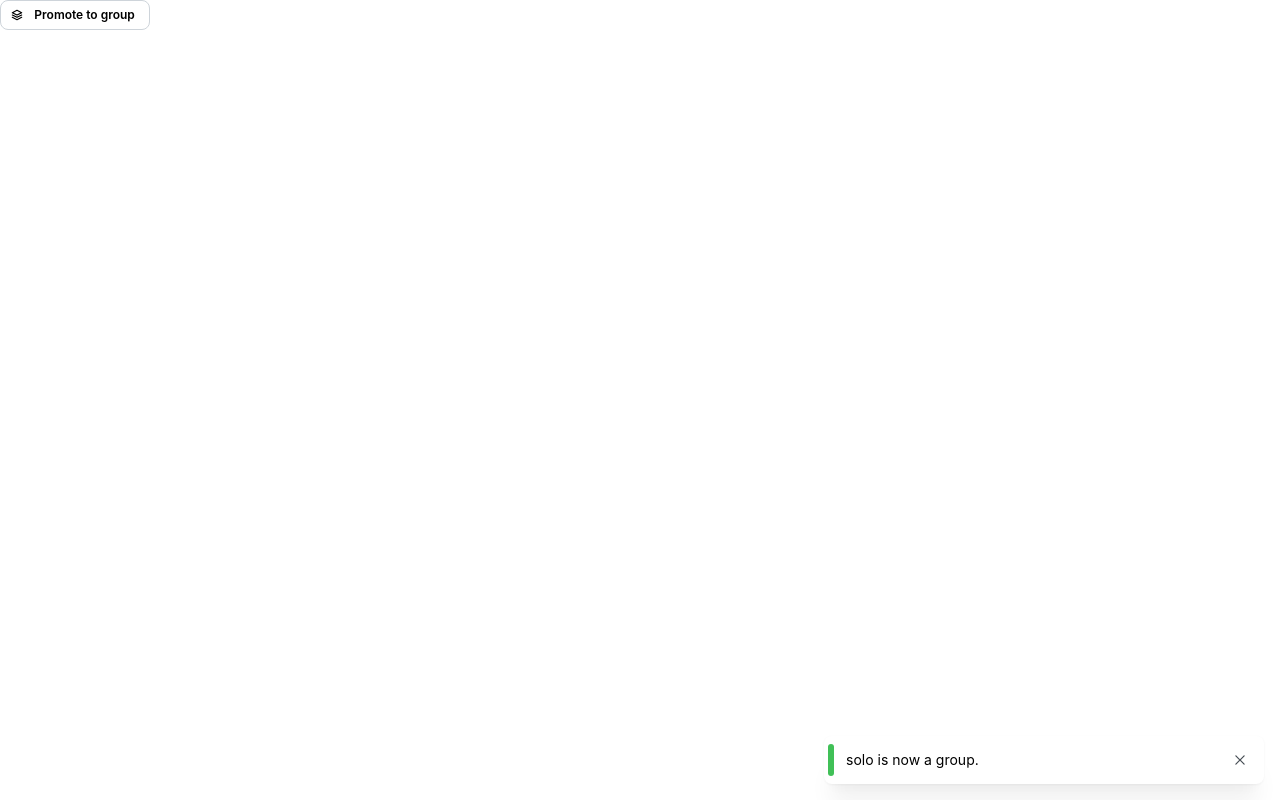
Scenario: PromoteGroup › says why it cannot promote, and keeps the button off
This screenshot has width=1280, height=800.
Click the button "Promote to group": point(75, 15) x1=0 y1=0 x2=150 y2=30
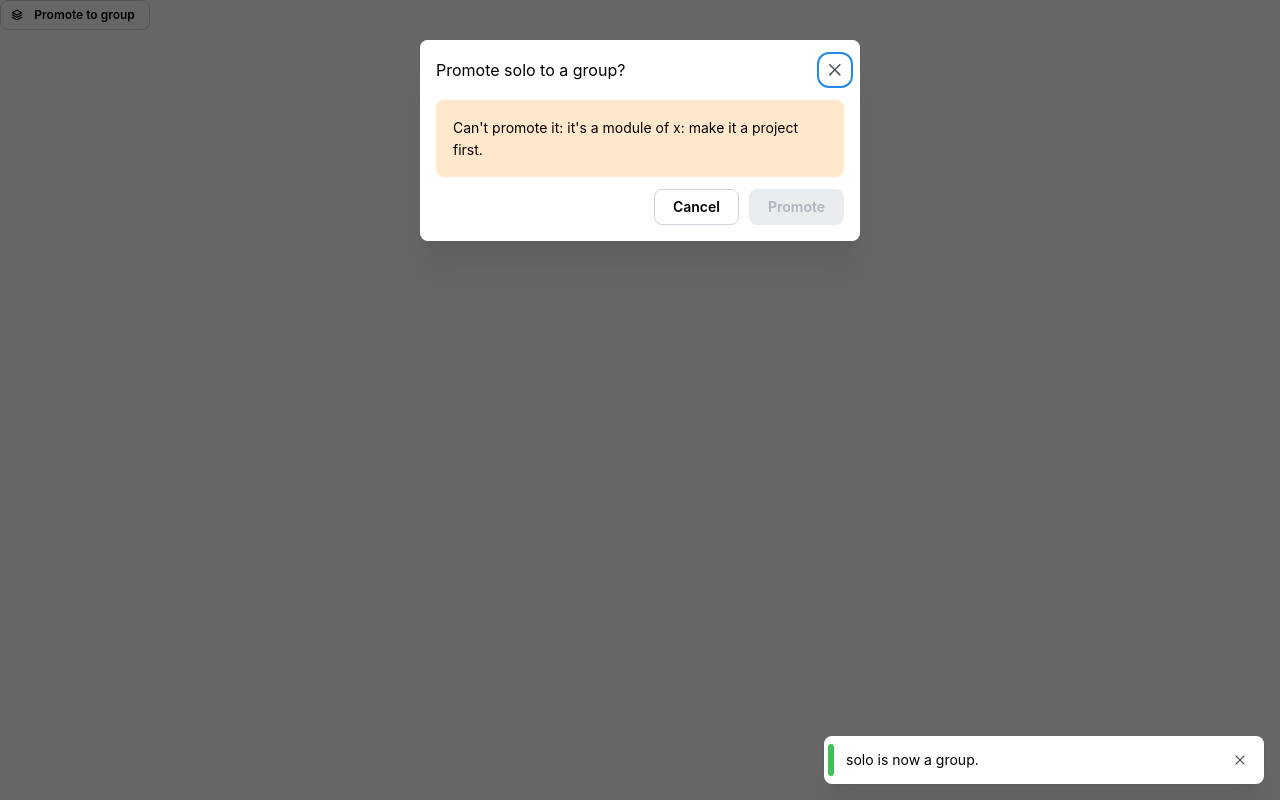
Expected: the text "make it a project first" is shown, x1=453 y1=119 x2=798 y2=158
Expected: the button "Promote" is disabled, x1=749 y1=189 x2=844 y2=225
